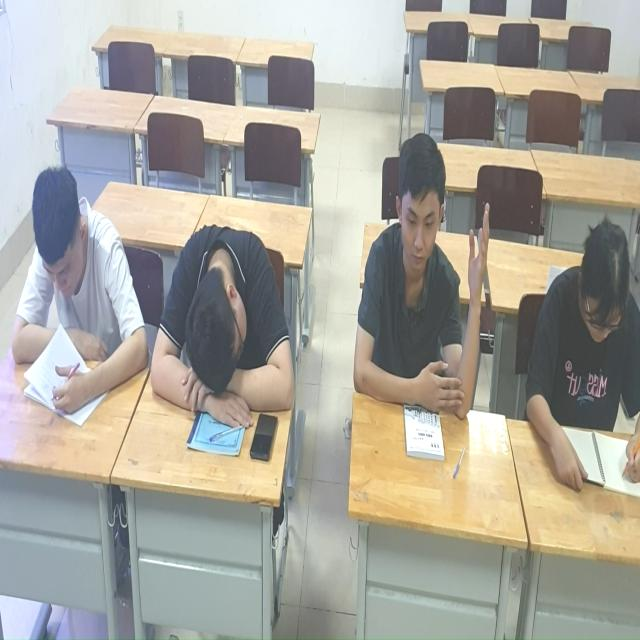raise_hand: (352, 122, 493, 425)
read: (9, 155, 145, 422), (519, 215, 640, 499)
sleep: (153, 206, 302, 435)
